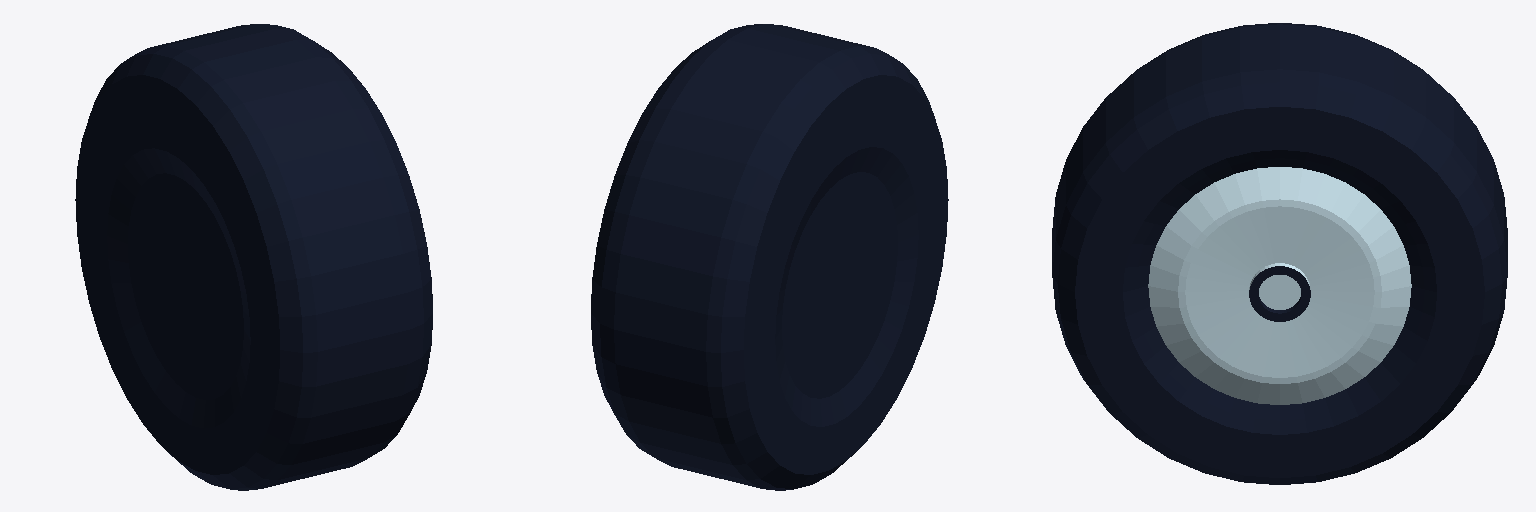
File: car.obj
The picture shows the model from 3 angles: view 1: azimuth 30°, elevation 25°; view 2: azimuth 150°, elevation 25°; view 3: azimuth 270°, elevation 25°; orthographic projection.
Visible parts, largest first — view 1: Cylinder.6; view 2: Cylinder.6; view 3: Cylinder.6.
Part boxes in pixels (bbox=[...]): Cylinder.6: bbox=[75, 24, 432, 490]; Cylinder.6: bbox=[591, 24, 948, 490]; Cylinder.6: bbox=[1052, 23, 1507, 484].
Size of the model in its own units: 19.55 by 49.42 by 49.42.